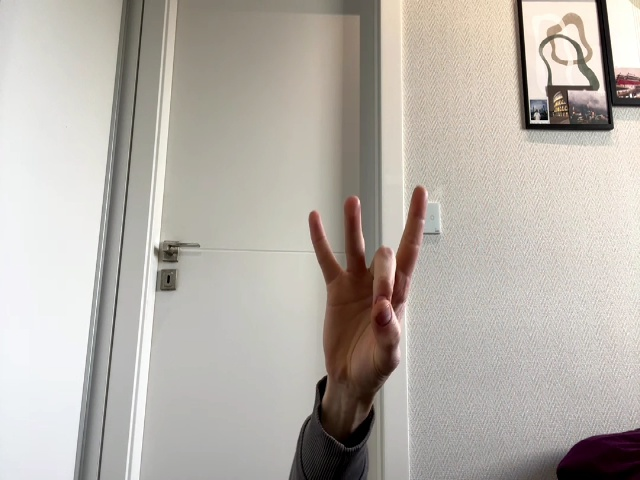G: (310, 186, 427, 389)
